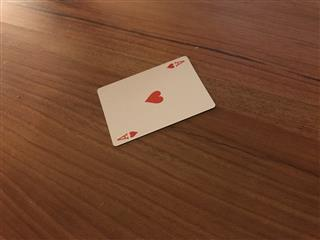AceOfHearts: (96, 55, 216, 146)
